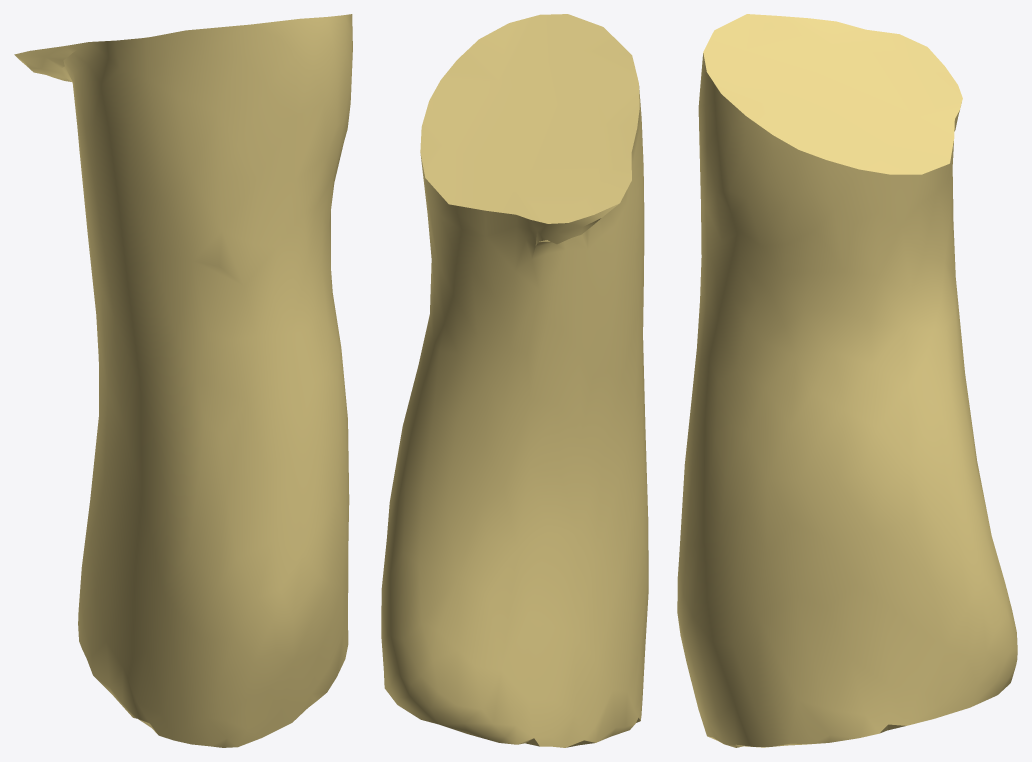
Rendered from fma73874-f_mm2681m.glb.
3 renders of one model, left to right at view 1: azimuth 30°, elevation 25°; view 2: azimuth 150°, elevation 25°; view 3: azimuth 270°, elevation 25°, orthographic. The views are drawn at different scales.
Visible parts, largest first — view 1: FMA73874-F_MM2681M; view 2: FMA73874-F_MM2681M; view 3: FMA73874-F_MM2681M.
Boxes of the visible parts, <box> form: FMA73874-F_MM2681M: <box>14,14,352,747</box>; FMA73874-F_MM2681M: <box>381,14,648,747</box>; FMA73874-F_MM2681M: <box>677,14,1017,747</box>.
Size of the model in its own units: 0.00348 by 0.0088 by 0.00388.
